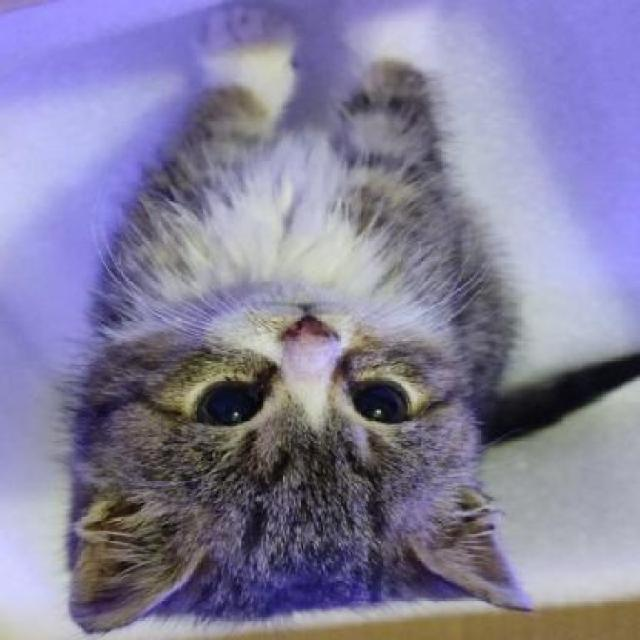cat: (62, 8, 589, 630)
